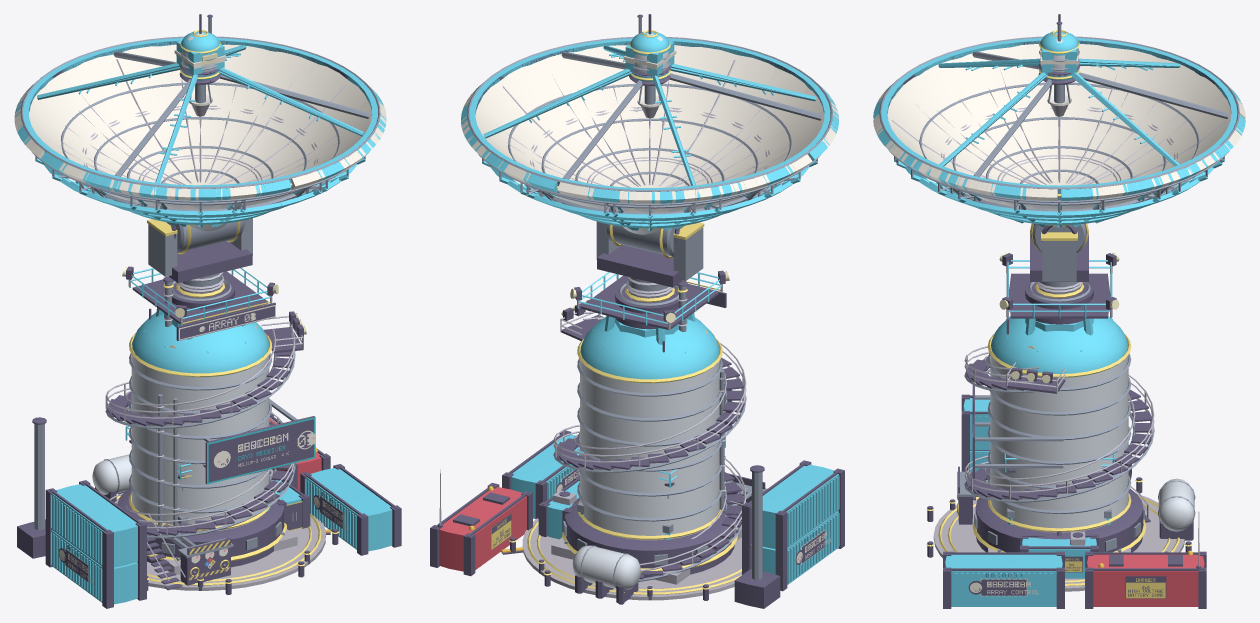
The model's file is dish.glb.
The picture shows the model from 3 angles, left to right: view 1: azimuth 30°, elevation 25°; view 2: azimuth 150°, elevation 25°; view 3: azimuth 270°, elevation 25°; orthographic projection.
Parts seen in each view (by area): view 1: dish_head_face, dish_cryo_shell, dish_cryo_dome, dish_cryo_treads, dish_cryo_collar, dish_gantry_boxB, dish_cryo_panel_kepler_dark, dish_gantry_boxC, dish_cryo_pad, dish_cryo_skirt, dish_cryo_bands, dish_cryo_collarBands (+43 smaller); view 2: dish_head_face, dish_cryo_shell, dish_cryo_dome, dish_cryo_treads, dish_cryo_collar, dish_cryo_pad, dish_cryo_skirt, dish_gantry_bank, dish_cryo_bands, dish_gantry_boxB, dish_cryo_collarBands, dish_cryo_handrails (+38 smaller); view 3: dish_head_face, dish_cryo_shell, dish_cryo_dome, dish_gantry_bank, dish_cryo_collar, dish_gantry_boxC, dish_cryo_treads, dish_cryo_skirt, dish_cryo_bands, dish_cryo_collarBands, dish_cryo_pad, dish_gantry_quadpod (+35 smaller).
Boxes of the visible parts, x1,y1,x2,y2 form: dish_head_face: [29, 44, 371, 185]; dish_cryo_shell: [131, 354, 269, 531]; dish_cryo_dome: [132, 312, 268, 377]; dish_cryo_treads: [107, 351, 293, 536]; dish_cryo_collar: [23, 38, 377, 189]; dish_gantry_boxB: [51, 484, 137, 567]; dish_cryo_panel_kepler_dark: [208, 419, 313, 482]; dish_gantry_boxC: [306, 468, 392, 551]; dish_cryo_pad: [116, 496, 325, 590]; dish_cryo_skirt: [117, 488, 283, 567]; dish_cryo_bands: [129, 353, 271, 513]; dish_cryo_collarBands: [20, 36, 380, 202]; dish_head_face: [475, 45, 824, 187]; dish_cryo_shell: [580, 360, 719, 540]; dish_cryo_dome: [580, 317, 719, 383]; dish_cryo_treads: [555, 357, 744, 579]; dish_cryo_collar: [469, 38, 830, 192]; dish_cryo_pad: [522, 518, 741, 600]; dish_cryo_skirt: [565, 497, 734, 577]; dish_gantry_bank: [439, 487, 526, 571]; dish_cryo_bands: [577, 358, 722, 521]; dish_gantry_boxB: [751, 464, 838, 549]; dish_cryo_collarBands: [467, 37, 832, 205]; dish_cryo_handrails: [553, 311, 746, 571]; dish_head_face: [887, 44, 1231, 185]; dish_cryo_shell: [990, 355, 1128, 532]; dish_cryo_dome: [990, 316, 1128, 377]; dish_gantry_bank: [1087, 554, 1204, 606]; dish_cryo_collar: [881, 38, 1237, 200]; dish_gantry_boxC: [945, 554, 1062, 606]; dish_cryo_treads: [965, 357, 1152, 522]; dish_cryo_skirt: [975, 488, 1143, 552]; dish_cryo_bands: [987, 353, 1131, 513]; dish_cryo_collarBands: [879, 36, 1239, 202]; dish_cryo_pad: [933, 494, 1184, 591]; dish_gantry_quadpod: [938, 58, 1180, 165].
Size of the model in its own units: 30.22 by 46.94 by 30.22.
